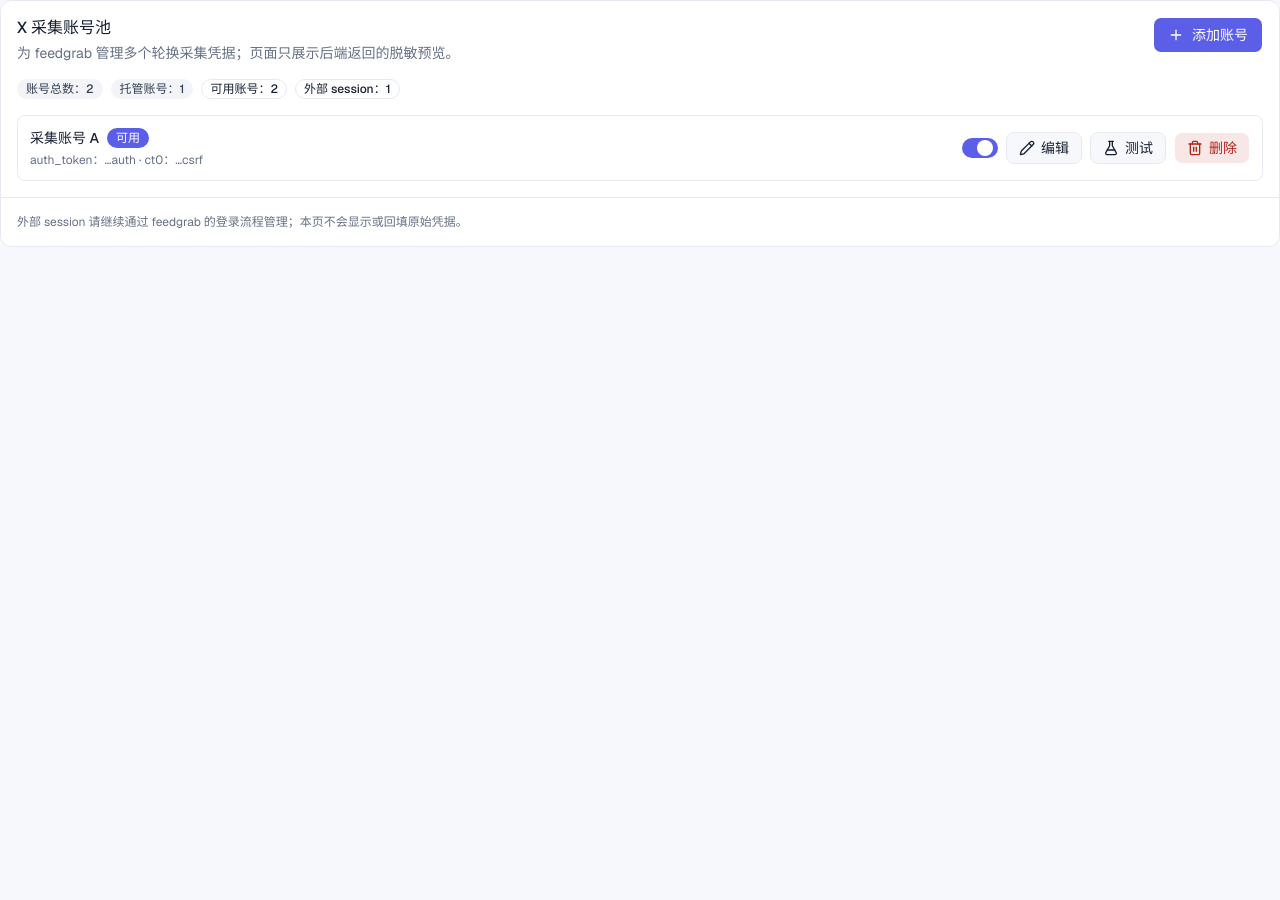
Test: XCredentialAccountsCard › keeps a failed delete dialog open with a retryable in-dialog error
Click the button with aria-label "删除采集账号 A" at (1212, 148), box [1174,132,1250,164]
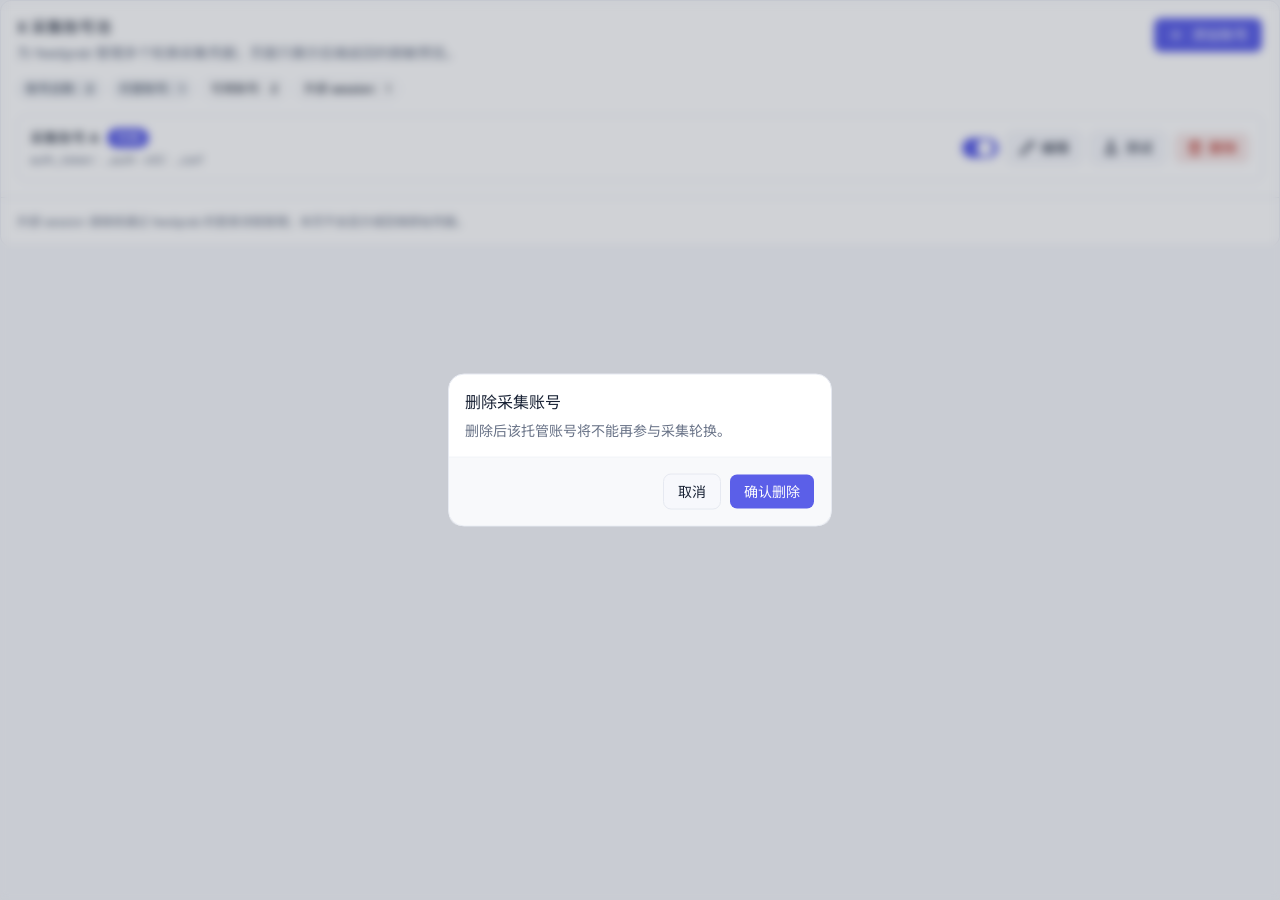
Click the button "确认删除" at (772, 492), box [729,474,815,510]
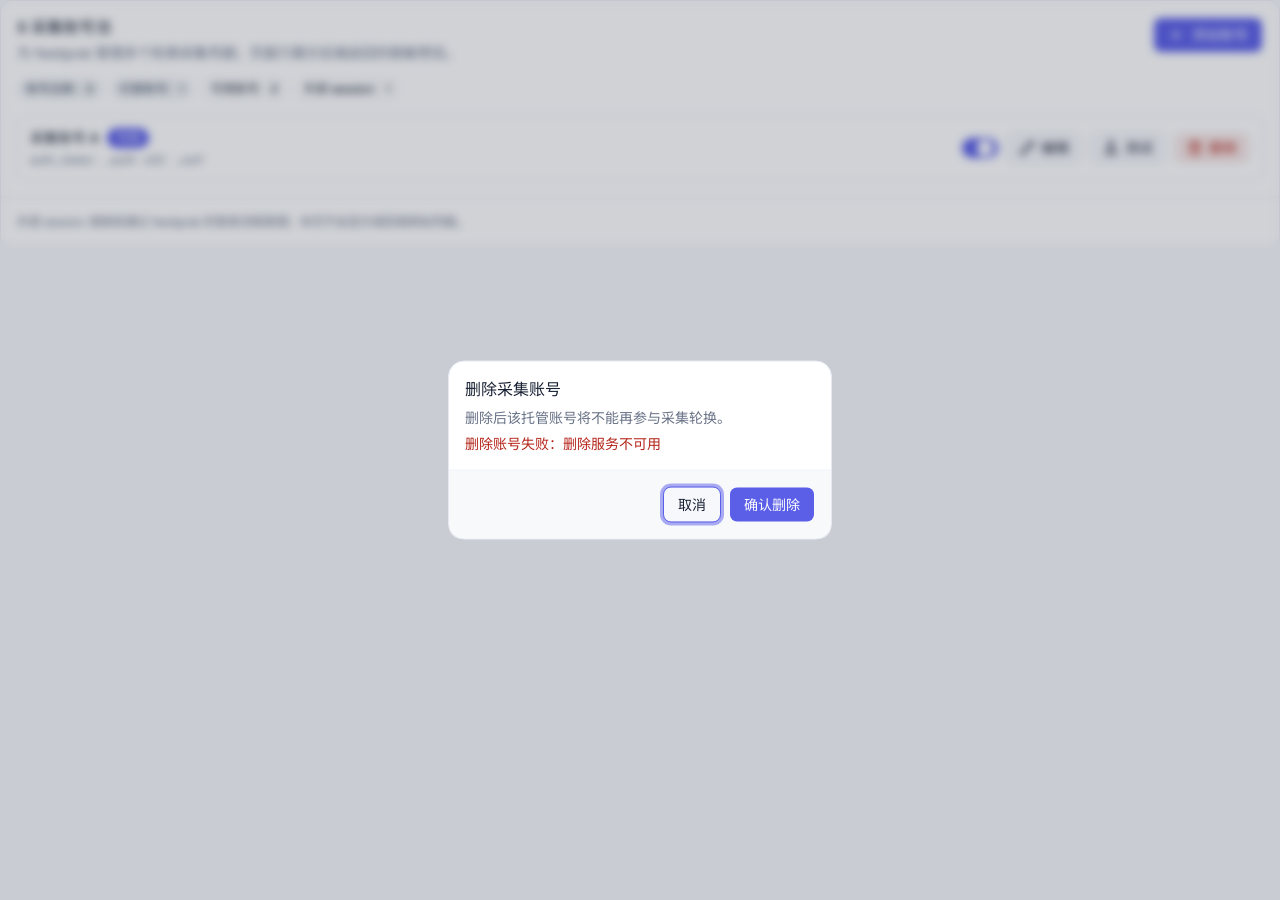
Now the button "确认删除" is enabled, box [729,486,815,522]
Now the text "删除账号失败：删除服务不可用" is shown, box [465,434,661,454]
